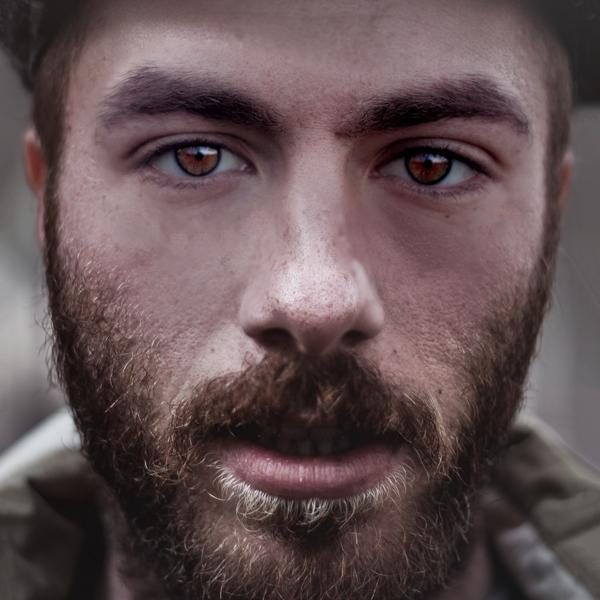Eyes: (118, 120, 271, 203), (360, 127, 505, 209)
